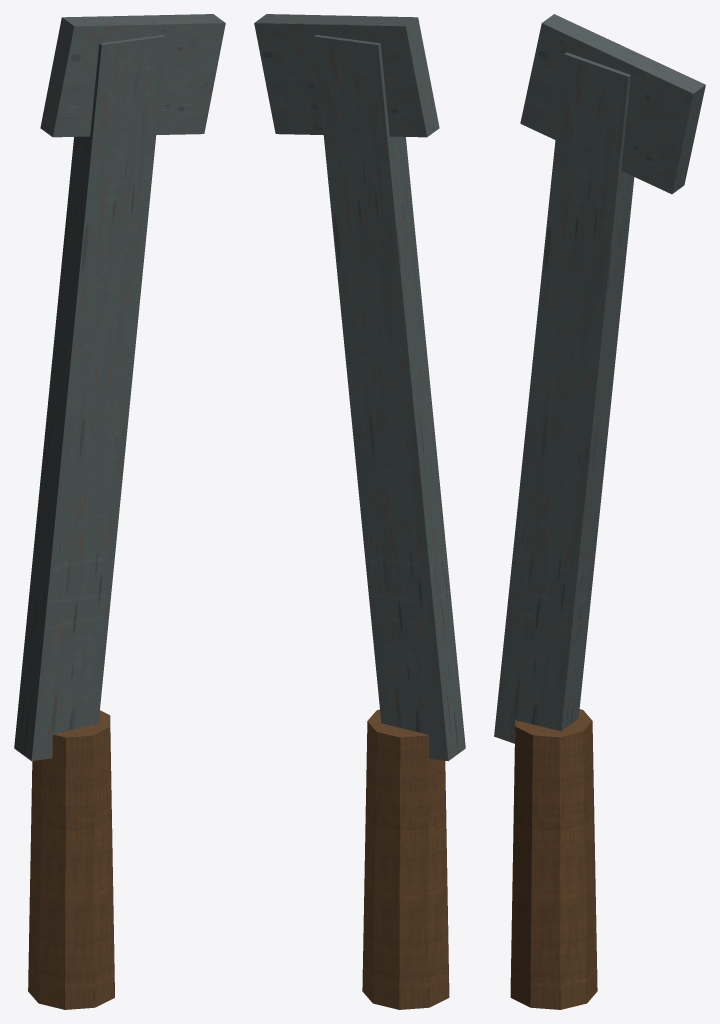
File: ax-tool-002_machete__clean.obj
3 views of the same model, side by side, from view 1: azimuth 30°, elevation 25°; view 2: azimuth 150°, elevation 25°; view 3: azimuth 330°, elevation 25° (orthographic).
Parts seen in each view (by area): view 1: ax-tool-002_machete__clean; view 2: ax-tool-002_machete__clean; view 3: ax-tool-002_machete__clean.
Part boxes in pixels (x1,y1,x2,y2): ax-tool-002_machete__clean: (14, 14, 225, 1009); ax-tool-002_machete__clean: (254, 14, 465, 1009); ax-tool-002_machete__clean: (494, 14, 705, 1009).
Bounding box in the file's own units: 0.1379 × 0.6502 × 0.0527.
2 materials, 2 textured.
